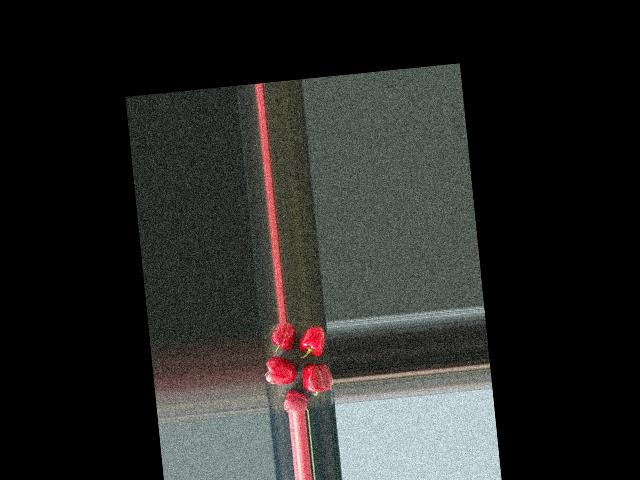bell_pepper: (277, 388, 310, 413)
